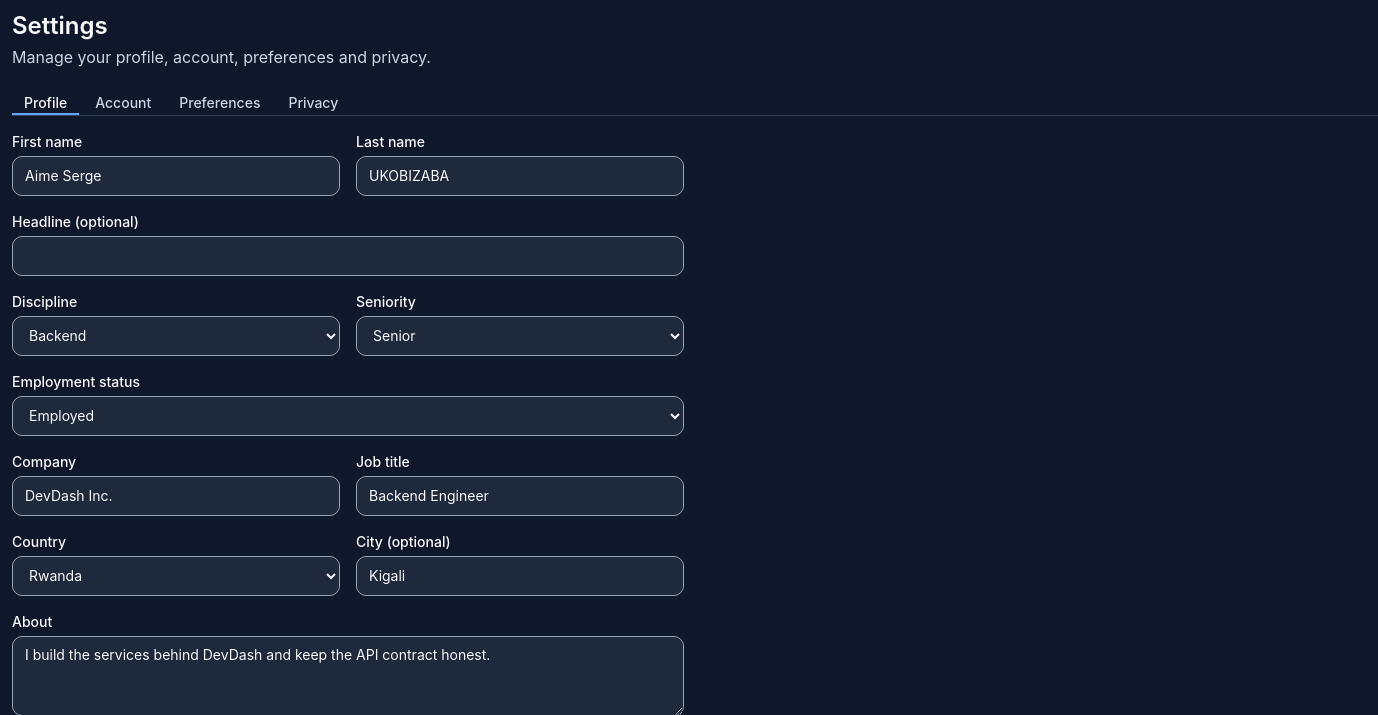
Test: MF-12 settings › MF-13: a wrong current password shows 403 INVALID_CREDENTIALS as a plain message
Click the tab "Account" at (123, 104), box [83,93,163,115]
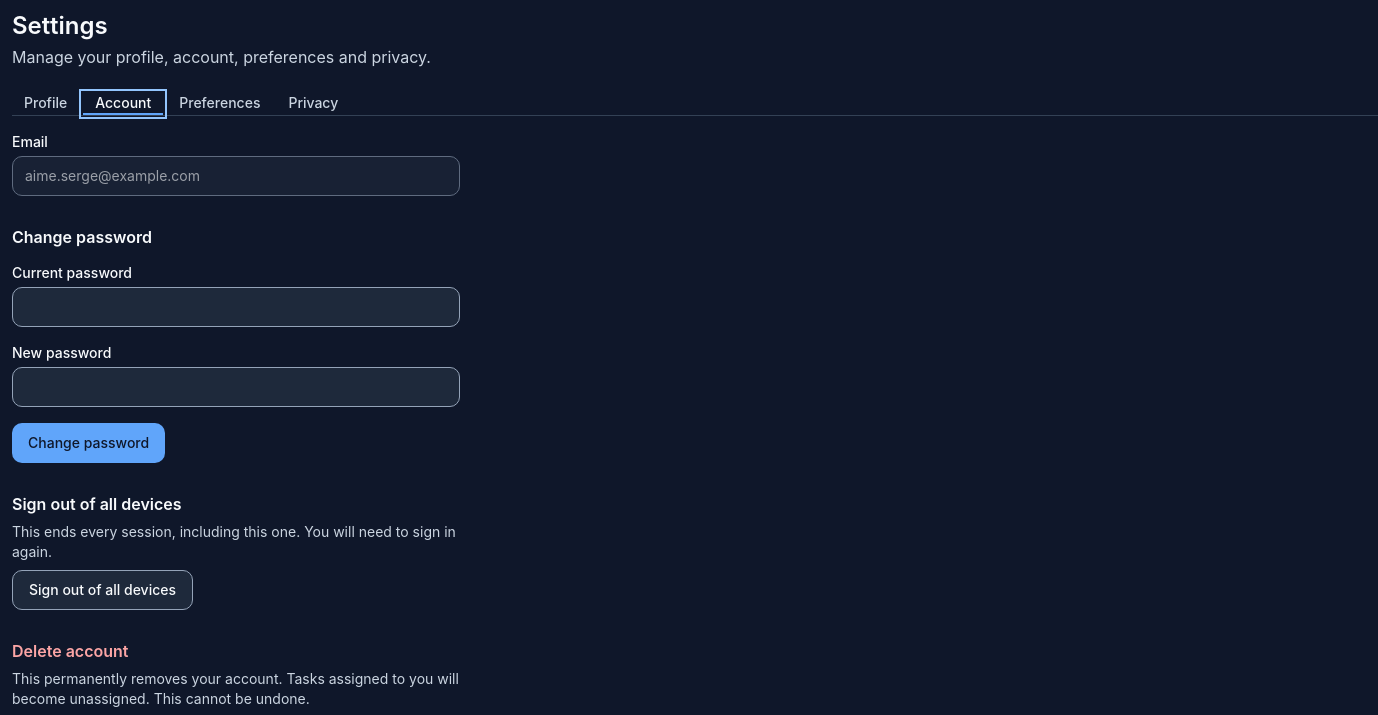
Type "wrong-password" into the password field labelled "Current password" at (236, 307), box [12,287,460,327]
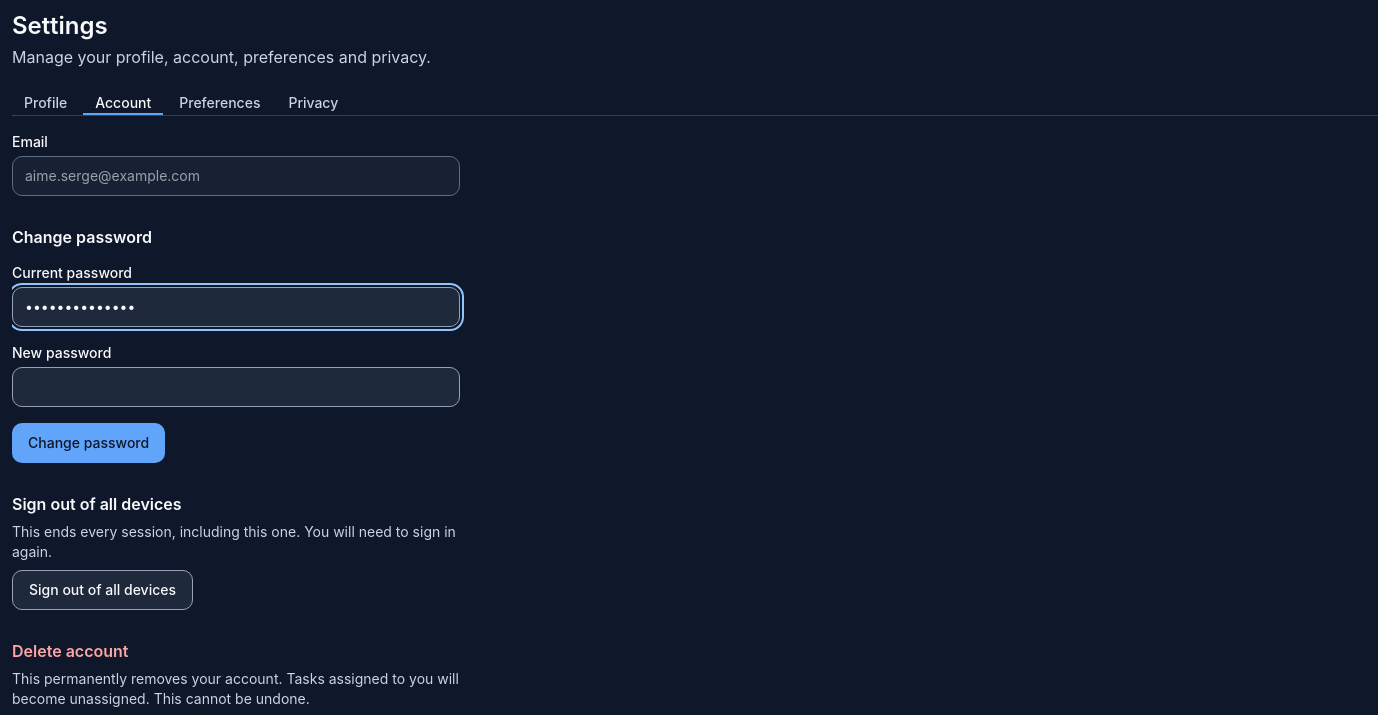
Type "a-new-password-123" into the password field labelled "New password" at (236, 387), box [12,367,460,407]
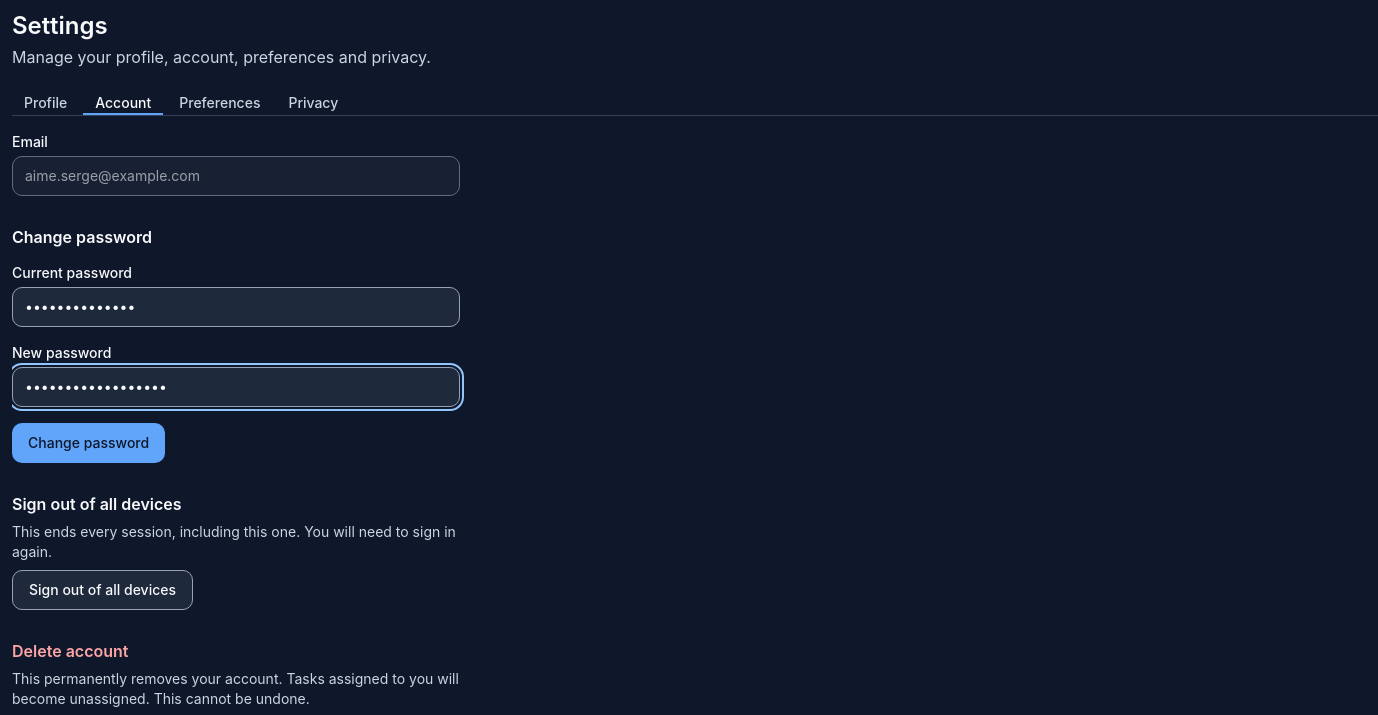
Click the button "Change password" at (89, 443), box [12,423,165,463]
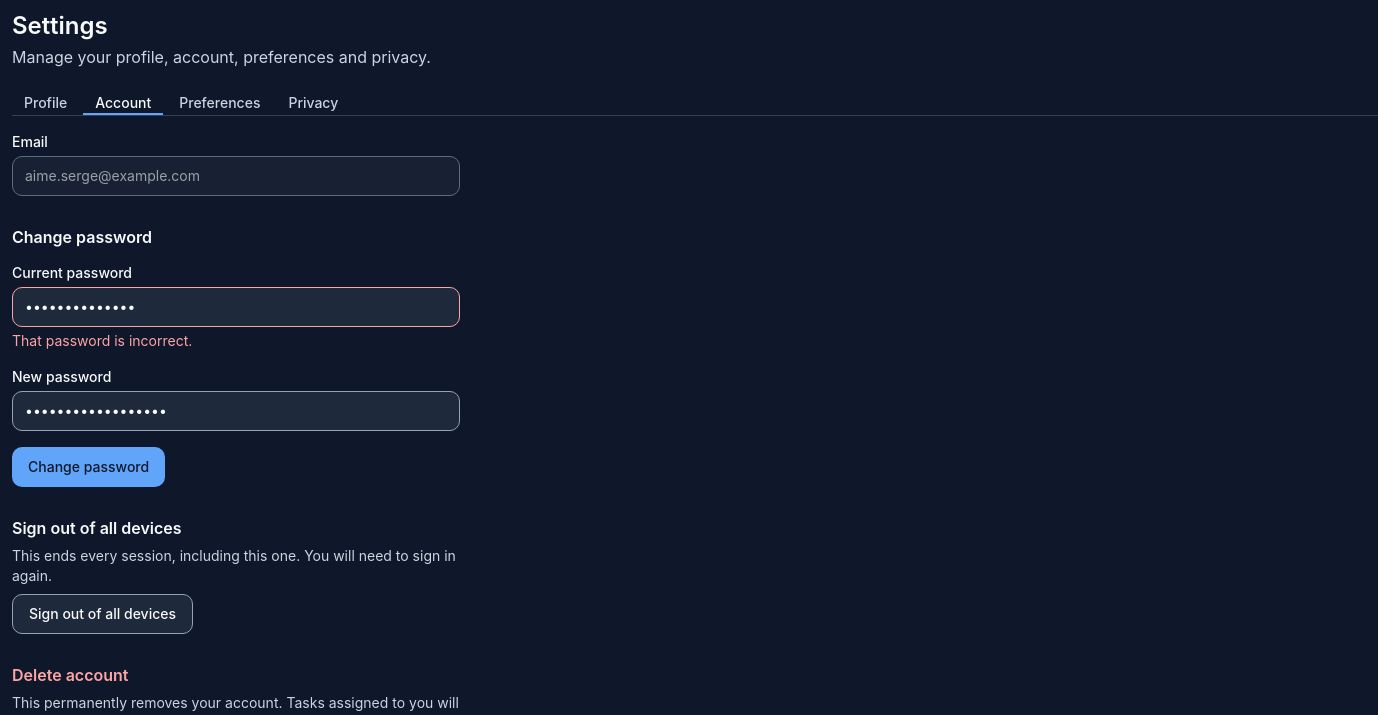
Check: the text "That password is incorrect." is shown, box [12,332,192,349]
